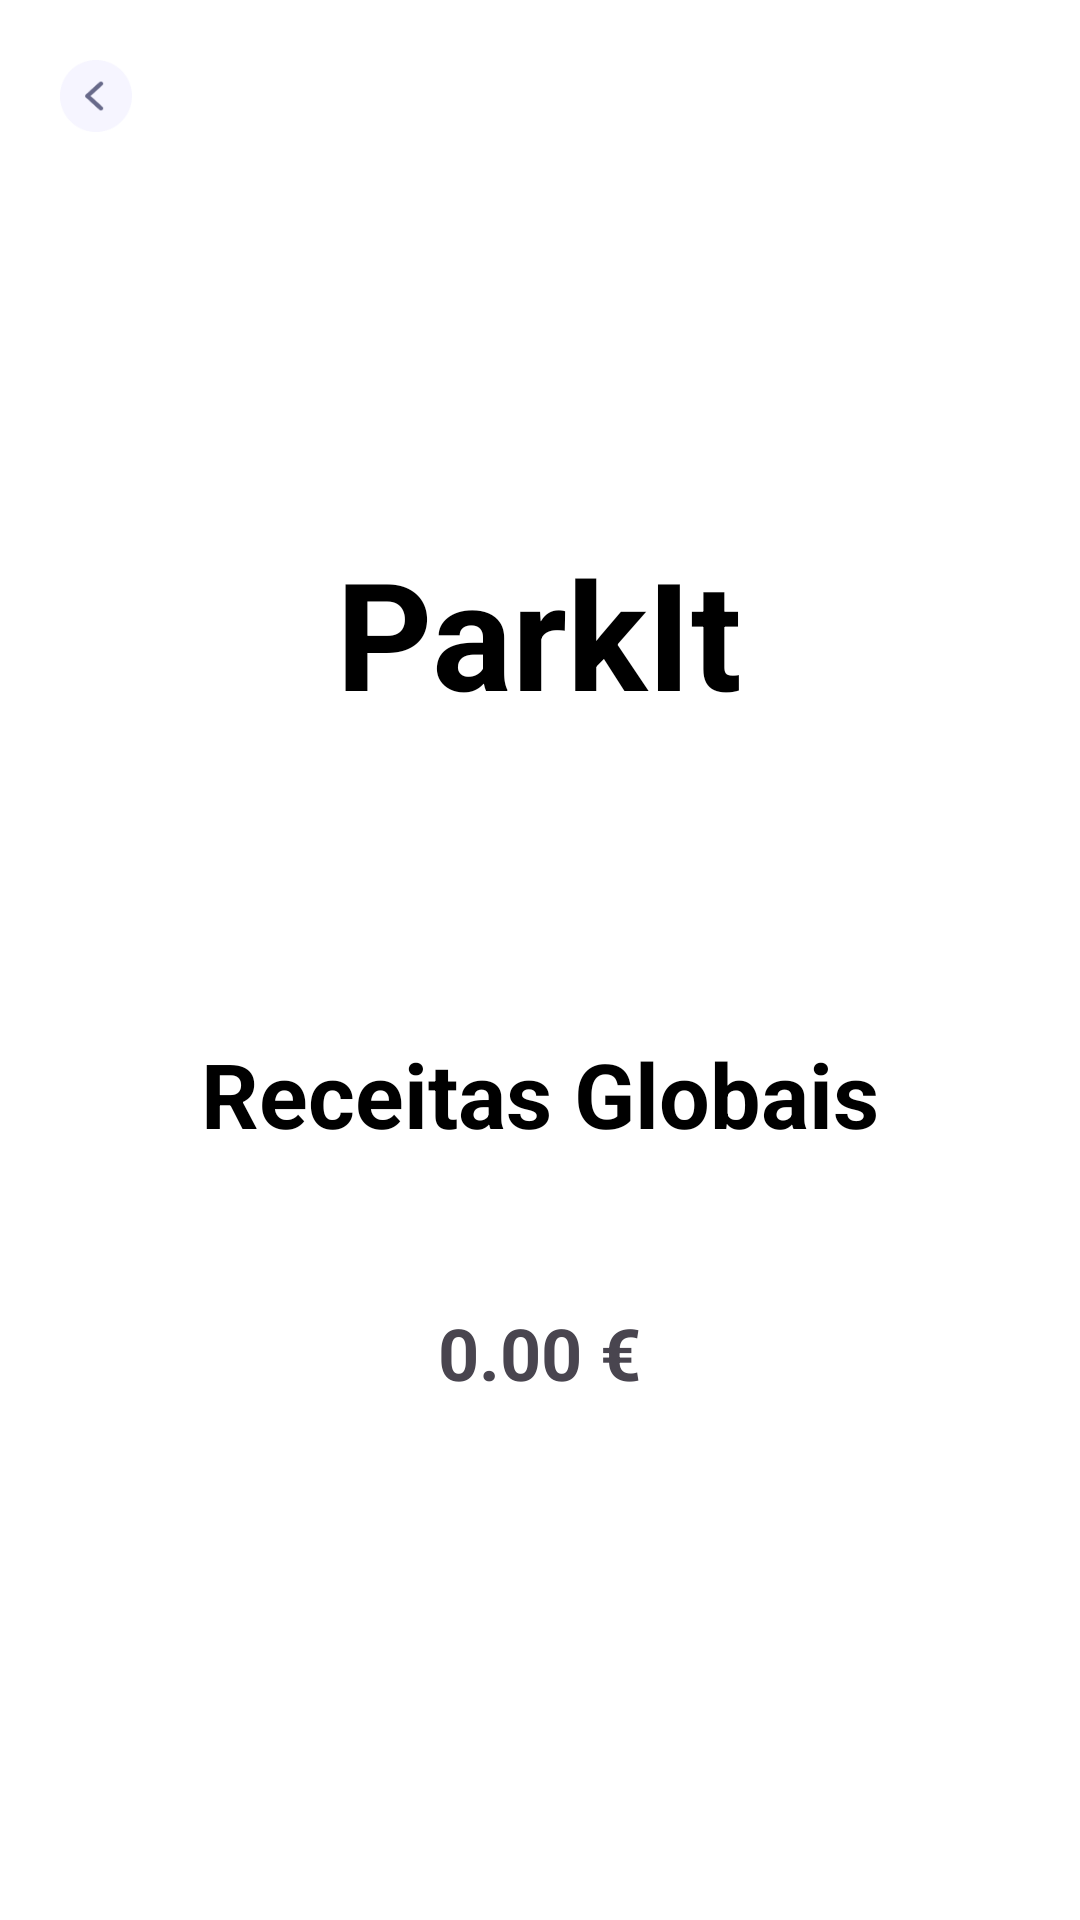

Where icons sit on this 1080px x 1920px app screen, as [left=x1, top=y1, right=x2, bottom=y2]:
Voltar: [left=60, top=60, right=132, bottom=132]
